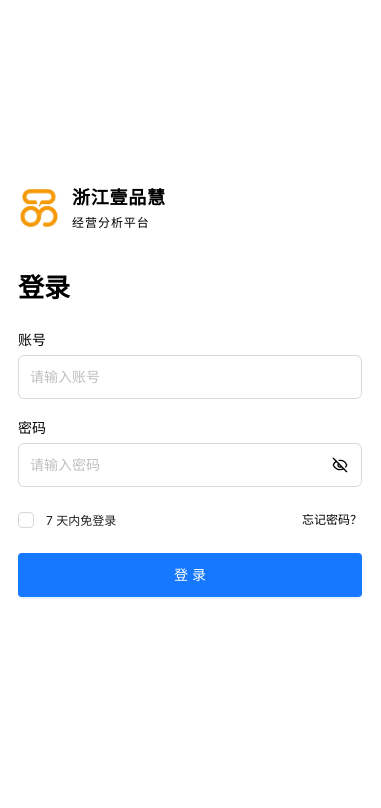
登录页图形验证码按需出现 › 验证码框展开后必填：留空提交不再打后端
Type "alice" into the field labelled "账号" at (190, 376), box [18,354,362,398]
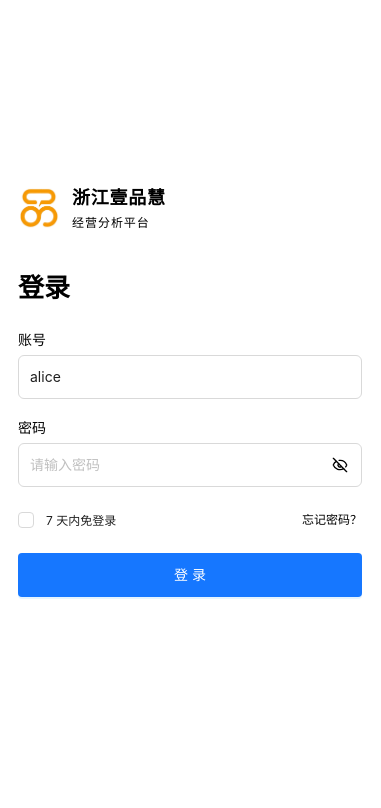
Type "wrong" into the password field labelled "密码" at (190, 464), box [18,442,362,486]
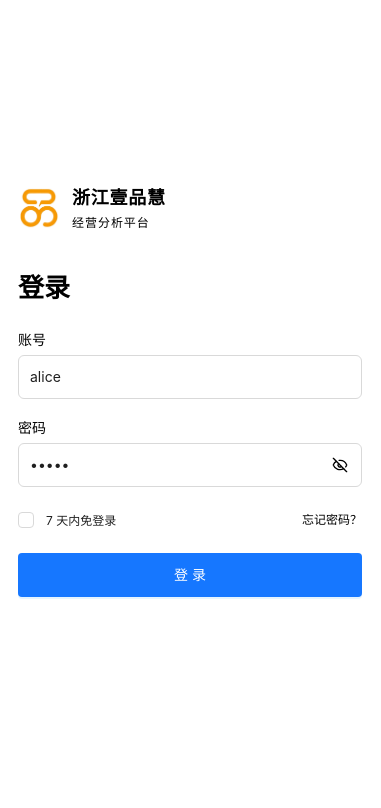
Click the button "登 录" at (190, 574), box [18,552,362,596]
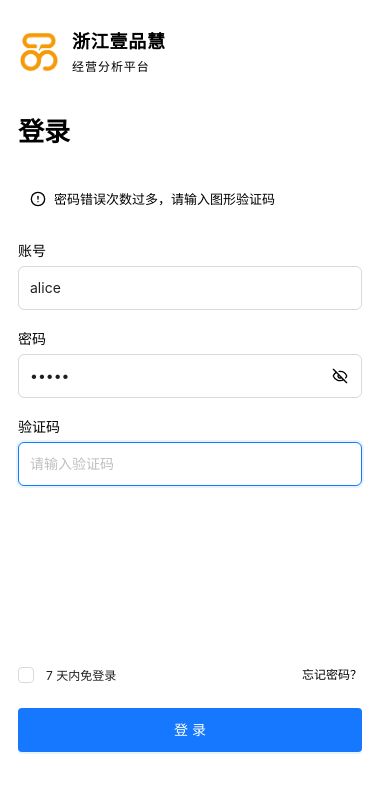
Now the field labelled "验证码" is shown, box [18,442,362,486]
验证码留空再次提交 → 前端拦下，不再多发一次请求
Click the button "登 录" at (190, 730), box [18,708,362,752]
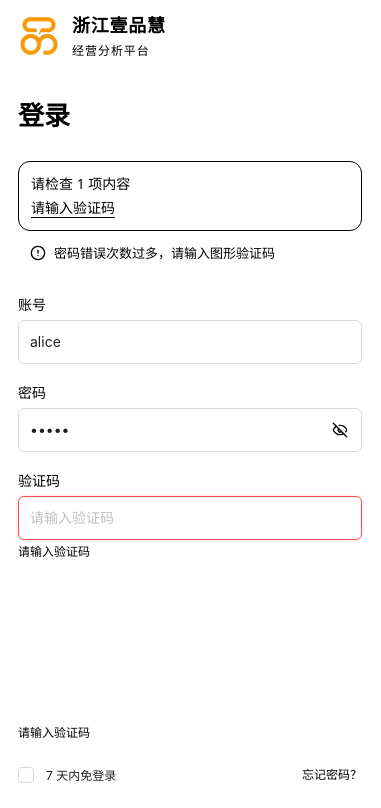
Now the button "请输入验证码" is shown, box [31,198,115,218]
